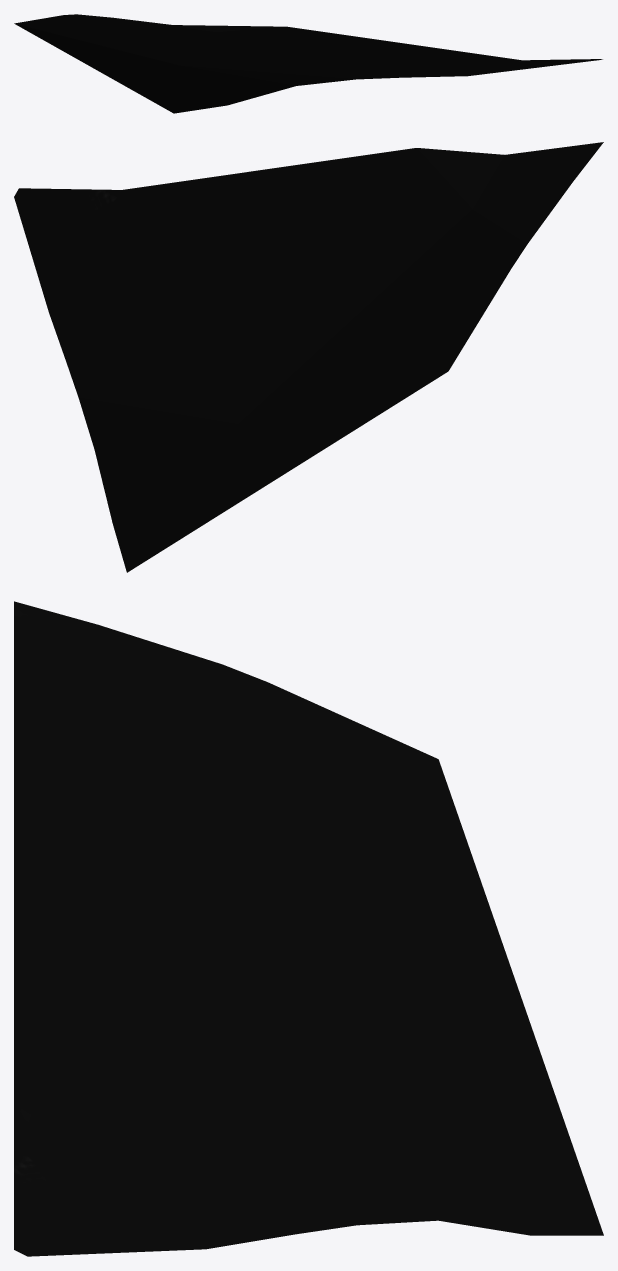
The picture shows the model from 3 angles, top to bottom: view 1: azimuth 30°, elevation 25°; view 2: azimuth 150°, elevation 25°; view 3: azimuth 270°, elevation 25°; orthographic projection. The views are drawn at different scales.
Bounding box in the file's own units: 3.35 × 1.84 × 2.14.
Materials: 2 (2 with a texture image).
